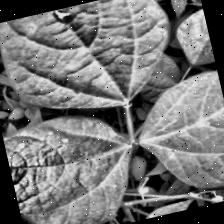ALS: (0, 0, 185, 133), (2, 105, 151, 224), (122, 68, 224, 202)
